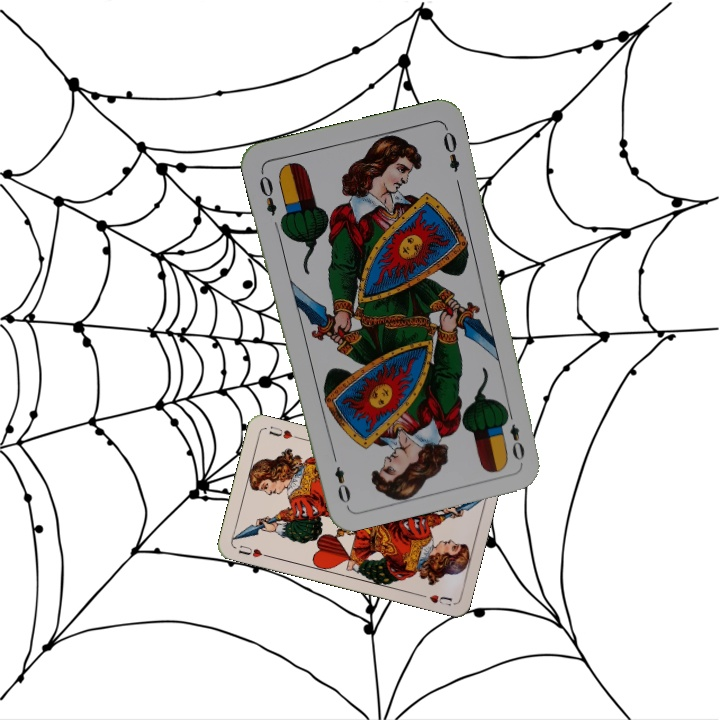EO: (501, 406, 527, 463), (255, 167, 279, 218)
HU: (234, 541, 271, 560)
